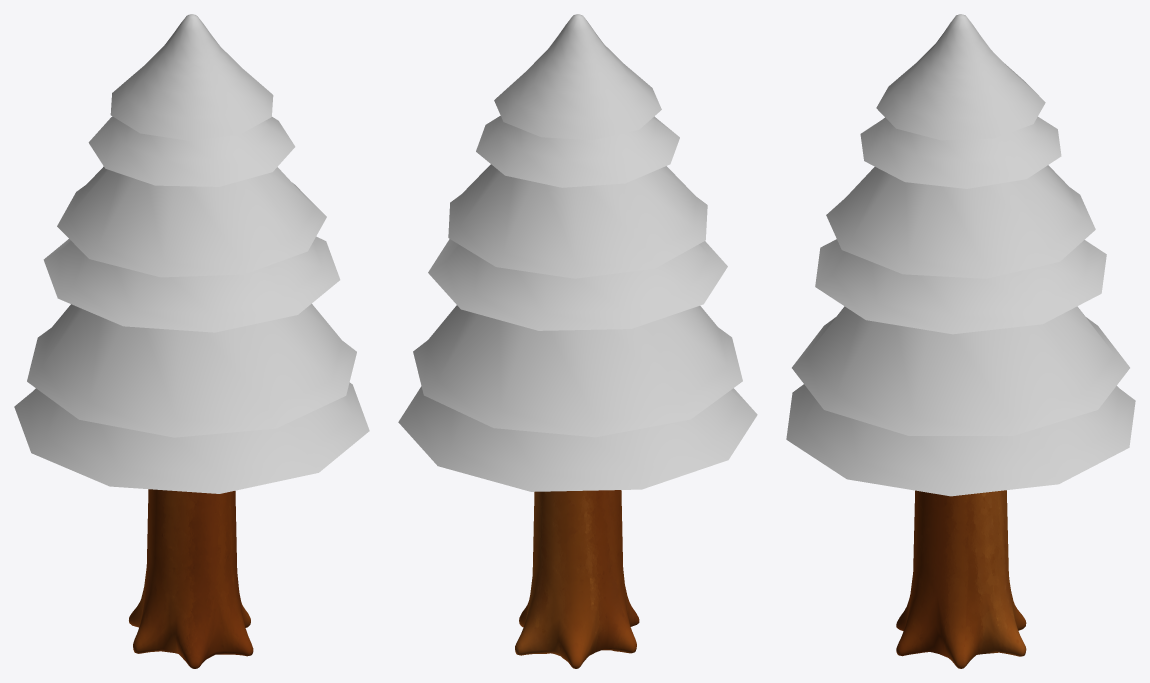
The model's file is treesimple.fbx.
3 views of the same model, side by side, from view 1: azimuth 30°, elevation 25°; view 2: azimuth 150°, elevation 25°; view 3: azimuth 270°, elevation 25° (orthographic).
Parts seen in each view (by area): view 1: Leaves.007, Leaves.003, Leaves.001, trunk, Leaves.004, Leaves.005, Leaves.006; view 2: Leaves.007, Leaves.003, Leaves.001, trunk, Leaves.004, Leaves.005, Leaves.006; view 3: Leaves.007, Leaves.003, Leaves.001, trunk, Leaves.004, Leaves.005, Leaves.006.
Part boxes in pixels (<box>): Leaves.007: <box>27,303,356,437</box>; Leaves.003: <box>57,166,326,277</box>; Leaves.001: <box>14,382,369,493</box>; trunk: <box>129,489,253,668</box>; Leaves.004: <box>43,236,340,332</box>; Leaves.005: <box>110,14,273,140</box>; Leaves.006: <box>88,116,295,186</box>; Leaves.007: <box>413,305,742,437</box>; Leaves.003: <box>448,164,707,278</box>; Leaves.001: <box>398,386,757,491</box>; trunk: <box>515,490,639,668</box>; Leaves.004: <box>428,239,727,330</box>; Leaves.005: <box>494,14,661,140</box>; Leaves.006: <box>476,116,679,187</box>; Leaves.007: <box>792,306,1129,435</box>; Leaves.003: <box>826,165,1095,278</box>; Leaves.001: <box>786,384,1135,496</box>; trunk: <box>896,490,1026,668</box>; Leaves.004: <box>815,239,1106,334</box>; Leaves.005: <box>876,14,1045,140</box>; Leaves.006: <box>860,117,1061,188</box>.
Size of the model in its own units: 690 by 1327 by 668.
